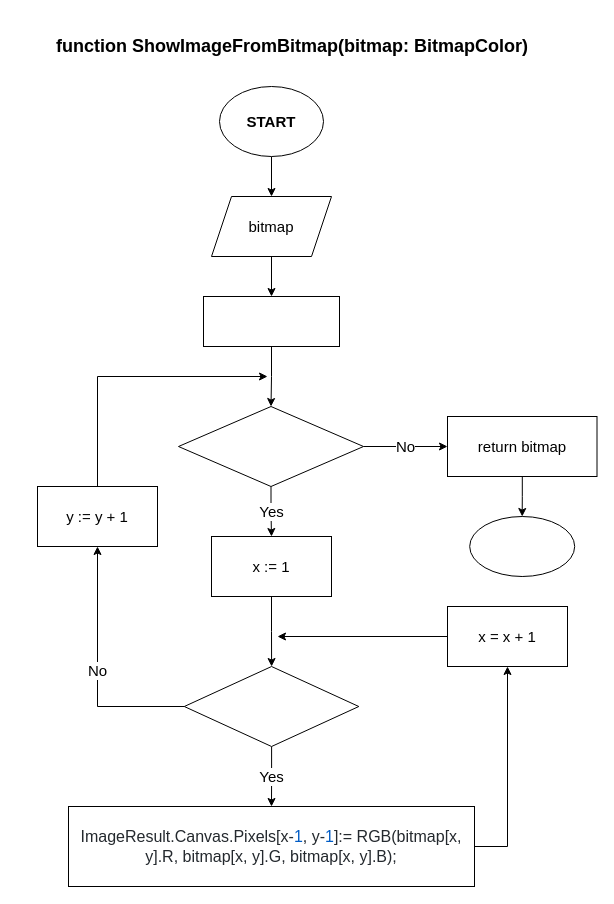
Image size: 614x904. Some labels were removed from this diagram. Here are the shapes that lost their labels. From the top down, the centre of each, then its label:
point 271,321: y := 1
point 271,446: y <= imageHeight
point 522,546: END
point 271,706: x <= imageWidth
